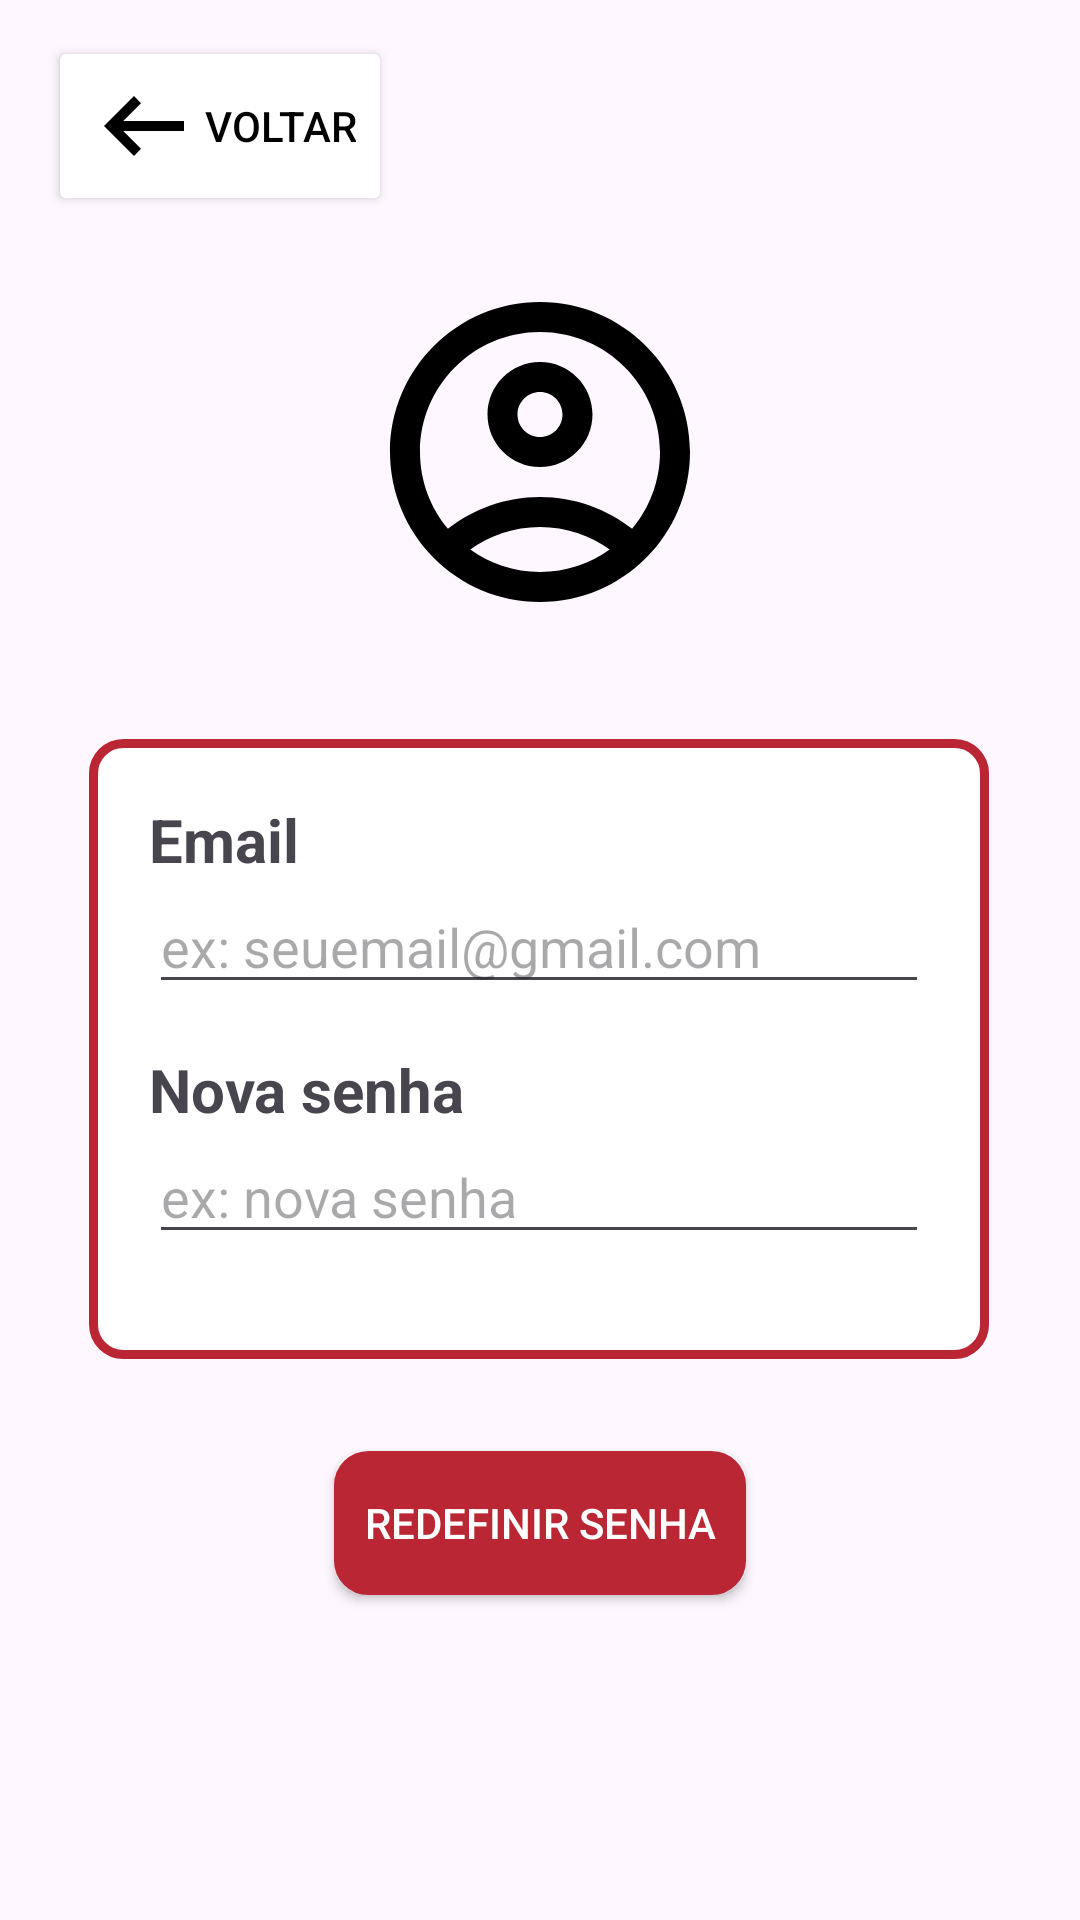

Named icons in this screenshot (1080w x 1920h) and their centers, point (x, y):
Ícone de usuário: point (540, 452)
